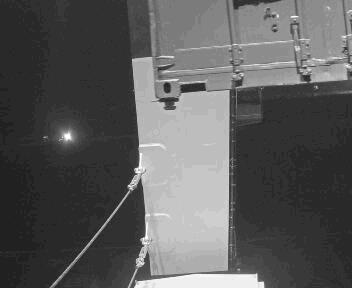twist_lock_1: (154, 93, 183, 119)
